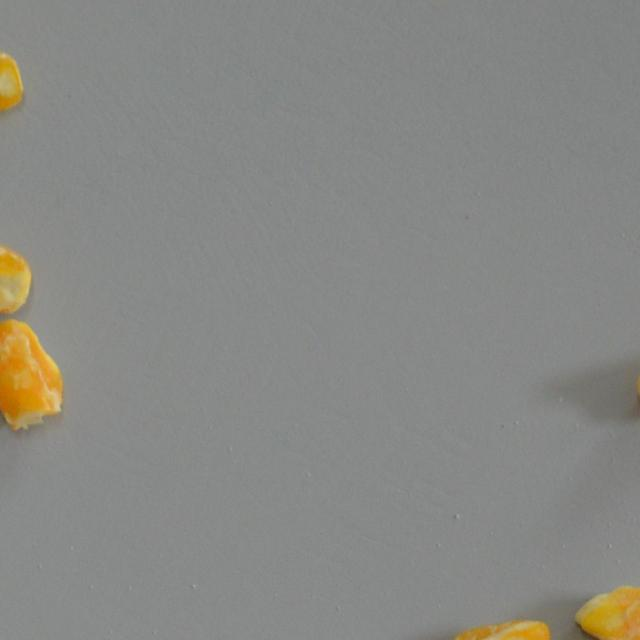dañado: (0, 316, 66, 436), (570, 581, 640, 640), (0, 224, 34, 316), (0, 44, 28, 120)
punto_negro: (442, 616, 550, 640)
